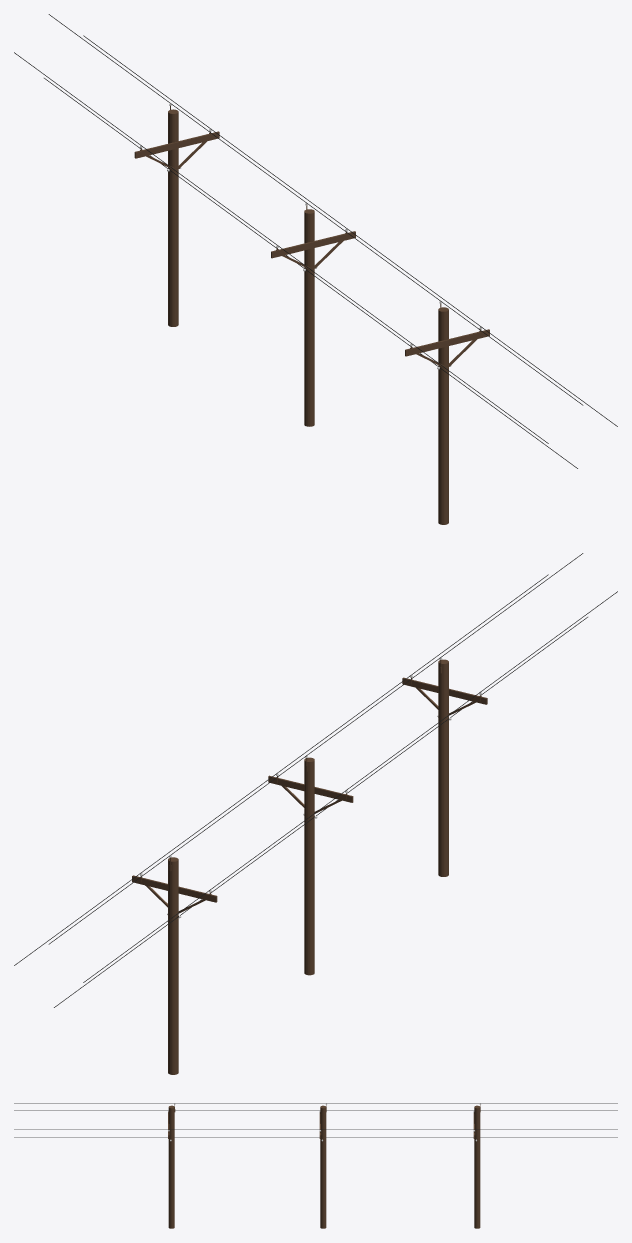
File: e81bfe2d-de5c-4f9d-8c2b-7c23edb323c7.glb
3 renders of one model, top to bottom at view 1: azimuth 30°, elevation 25°; view 2: azimuth 150°, elevation 25°; view 3: azimuth 270°, elevation 25°, orthographic. The views are drawn at different scales.
Parts seen in each view (by area): view 1: Cylinder076, Cylinder086, Cylinder096, Cylinder068, Cylinder067, Cylinder064, Cylinder065; view 2: Cylinder086, Cylinder096, Cylinder076, Cylinder068, Cylinder067, Cylinder064; view 3: Cylinder076, Cylinder086, Cylinder096, Cylinder064, Cylinder068, Cylinder065, Cylinder067.
Part boxes in pixels (x1=…): Cylinder076: x1=168, y1=109, x2=178, y2=326; Cylinder086: x1=304, y1=209, x2=314, y2=426; Cylinder096: x1=438, y1=307, x2=448, y2=524; Cylinder068: x1=48, y1=14, x2=583, y2=405; Cylinder067: x1=14, y1=52, x2=548, y2=443; Cylinder064: x1=83, y1=35, x2=617, y2=426; Cylinder065: x1=44, y1=78, x2=577, y2=468; Cylinder086: x1=304, y1=757, x2=314, y2=975; Cylinder096: x1=438, y1=659, x2=448, y2=876; Cylinder076: x1=168, y1=857, x2=178, y2=1074; Cylinder068: x1=48, y1=553, x2=583, y2=944; Cylinder067: x1=83, y1=591, x2=617, y2=982; Cylinder064: x1=14, y1=574, x2=548, y2=965; Cylinder076: x1=474, y1=1105, x2=480, y2=1228; Cylinder086: x1=320, y1=1105, x2=326, y2=1228; Cylinder096: x1=168, y1=1105, x2=174, y2=1228; Cylinder064: x1=14, y1=1129, x2=617, y2=1129; Cylinder068: x1=14, y1=1103, x2=617, y2=1103; Cylinder065: x1=14, y1=1137, x2=617, y2=1137; Cylinder067: x1=14, y1=1110, x2=617, y2=1110.
Size of the model in its own units: 4763 by 11890 by 52374.
